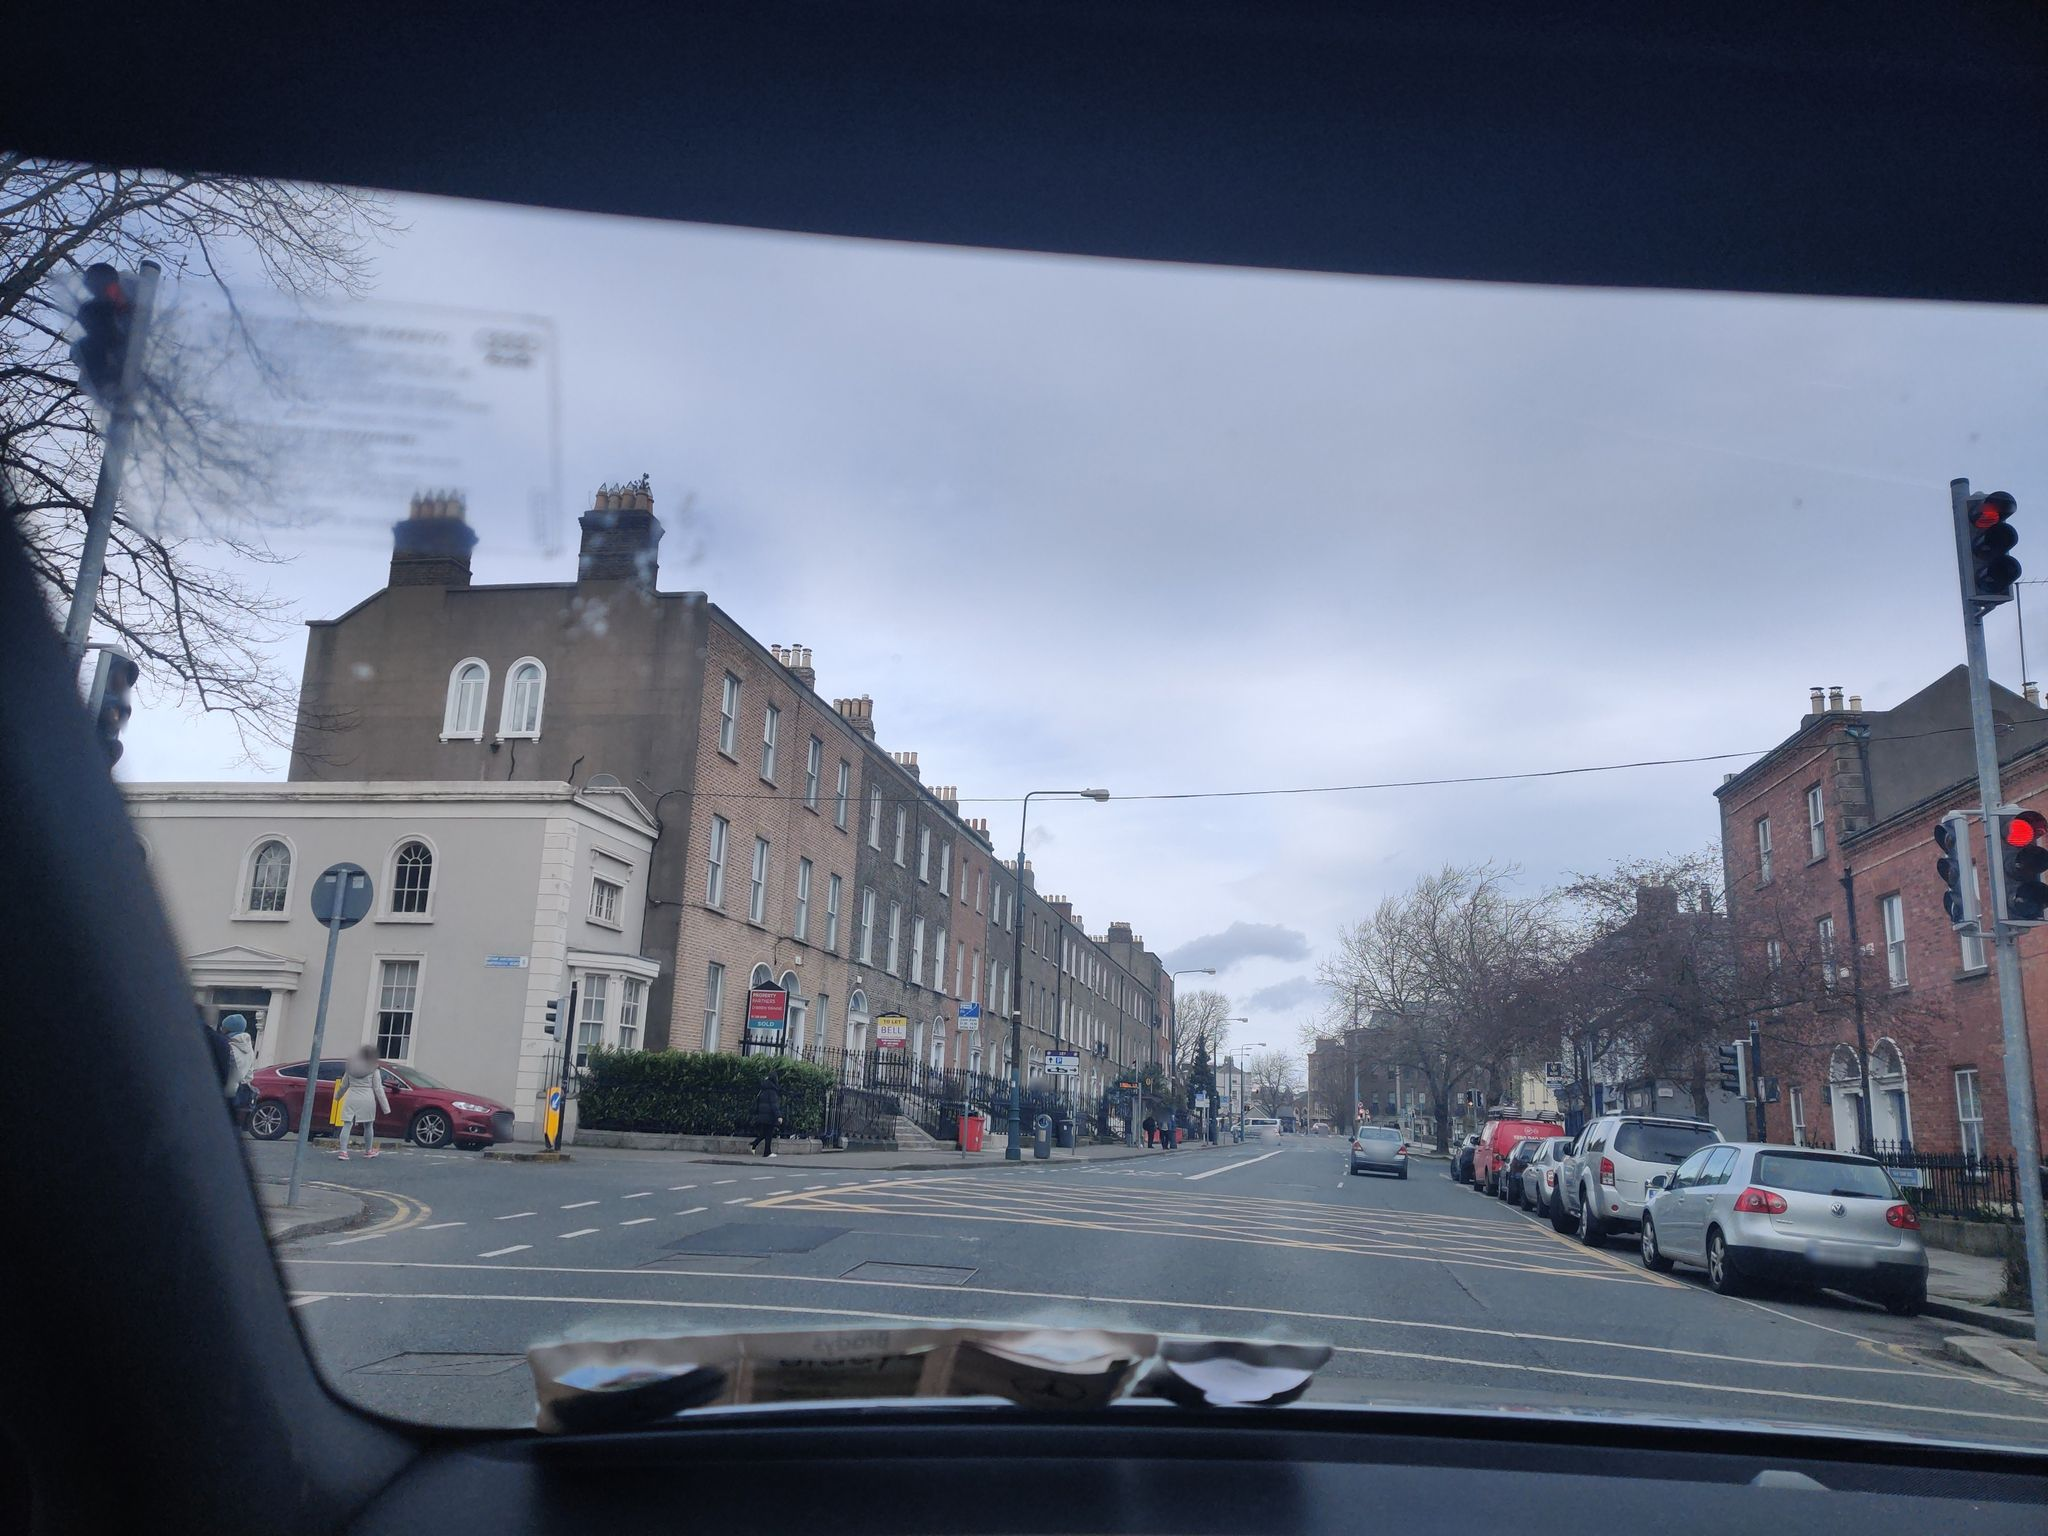property sign: (740, 970, 792, 1033), (872, 1004, 906, 1062)
